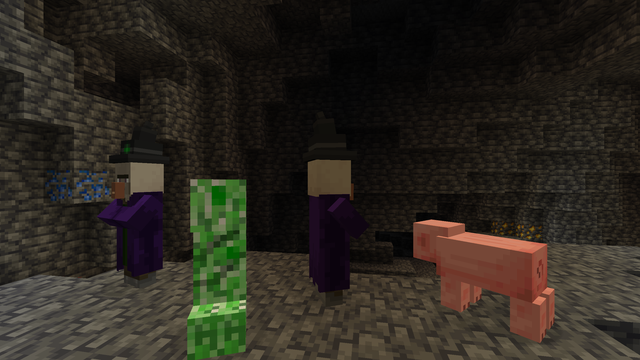cochons: (439, 229, 556, 335)
creepers: (175, 171, 258, 355)
sorcieres: (105, 157, 170, 292), (301, 153, 350, 310)
